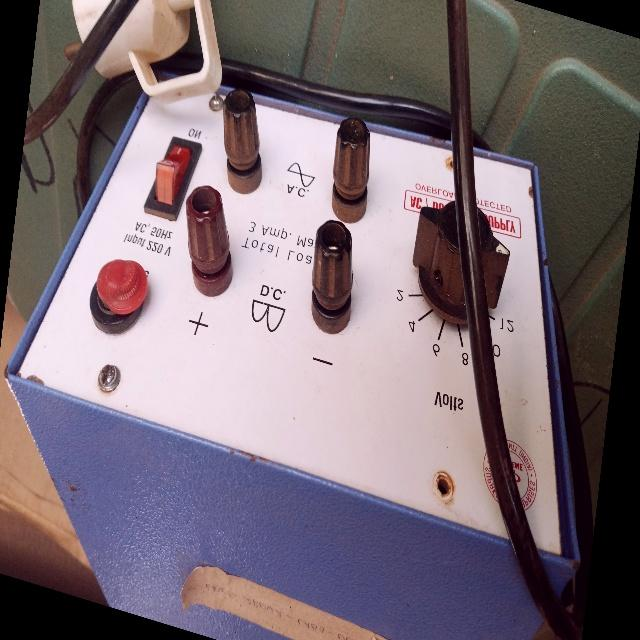AC and DC Power Supply 12 V: (0, 16, 624, 640)
